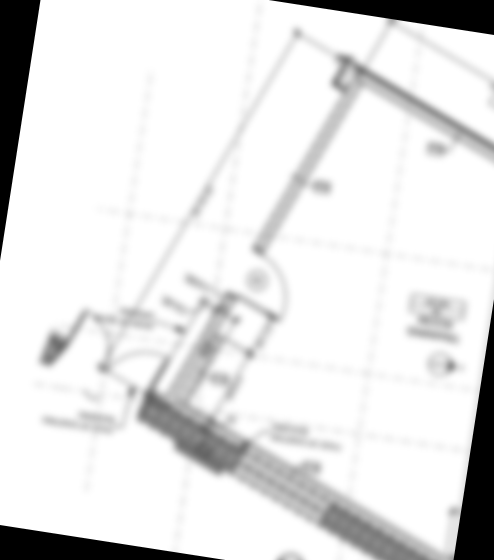door: (227, 242, 297, 326)
double door: (58, 307, 176, 398)
wall: (155, 390, 469, 560), (243, 56, 374, 265), (340, 52, 494, 175), (179, 334, 229, 413)
